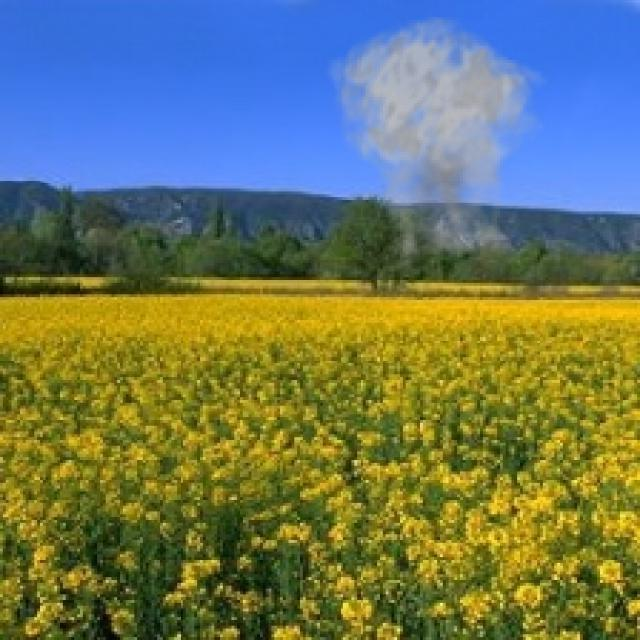Smoke: (326, 14, 552, 277)
